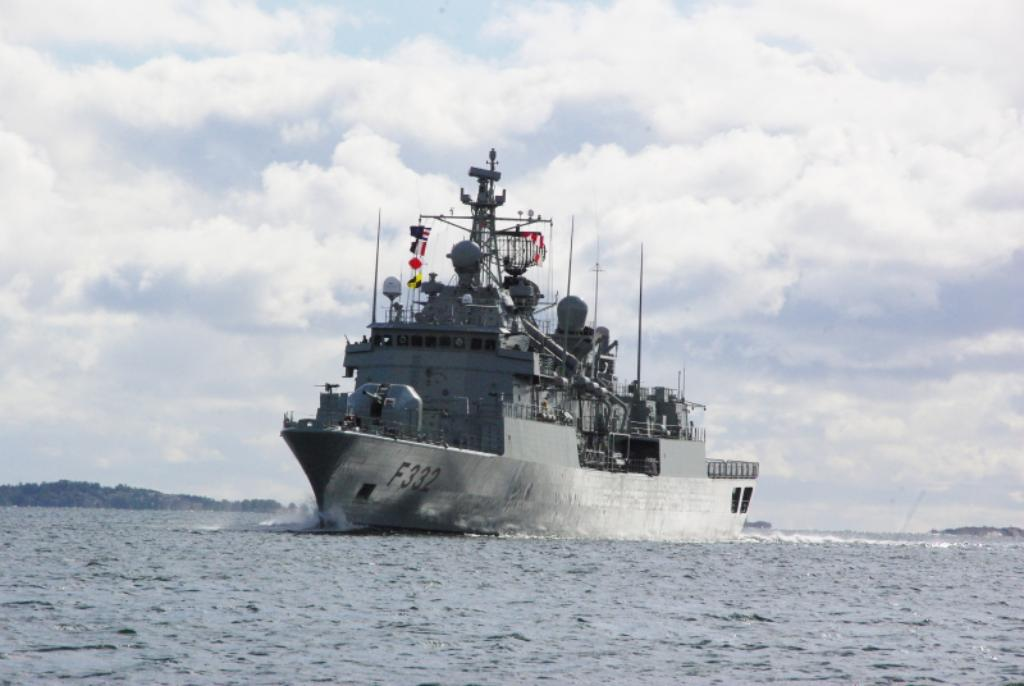Warship: (280, 142, 764, 542)
